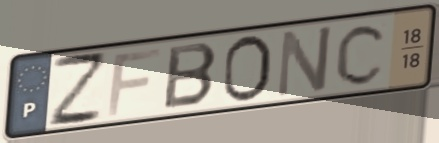B: (160, 41, 221, 112)
C: (333, 21, 391, 88)
F: (104, 45, 164, 119)
N: (273, 22, 335, 102)
O: (220, 33, 274, 106)
Z: (47, 51, 107, 130)
